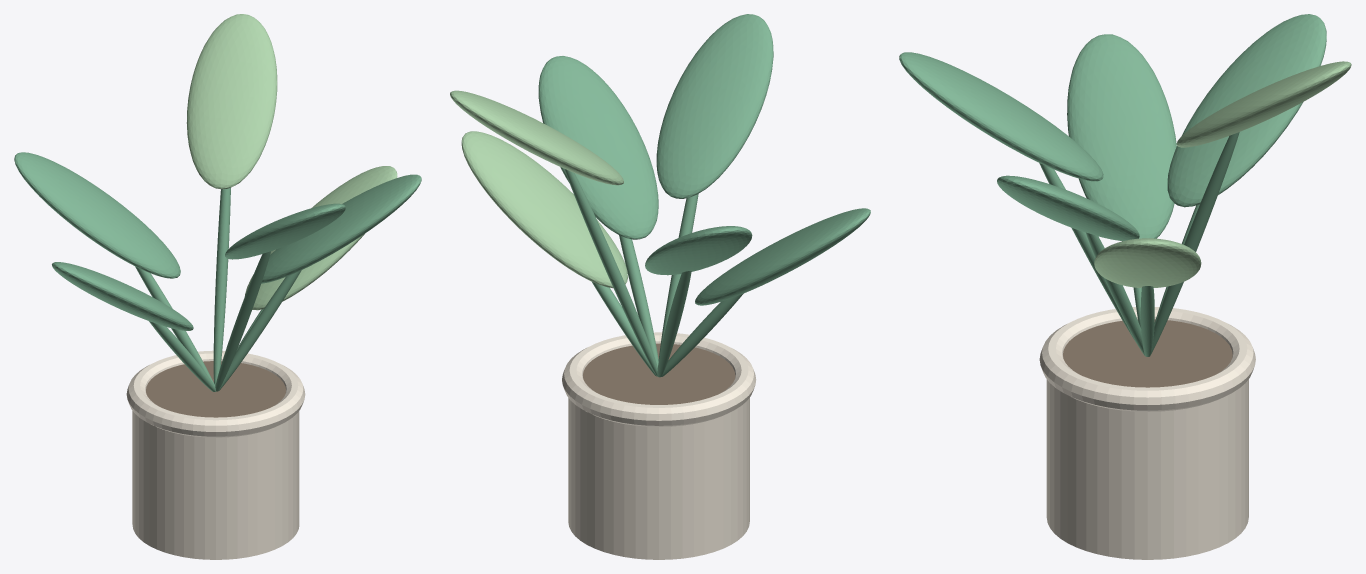
Rendered from desk-plant.glb.
The picture shows the model from 3 angles, left to right: view 1: azimuth 30°, elevation 25°; view 2: azimuth 150°, elevation 25°; view 3: azimuth 270°, elevation 25°; orthographic projection. The views are drawn at different scales.
Visible parts, largest first — view 1: pot, leaf3, leaf1, potrim, soil, leaf5, leaf4, leaf0, leaf2, stem3, stem2, stem5 (+2 smaller); view 2: pot, leaf2, leaf5, leaf0, potrim, soil, leaf4, leaf3, leaf1, stem3, stem5, stem1 (+3 smaller); view 3: pot, leaf4, leaf1, potrim, leaf2, soil, leaf3, leaf0, leaf5, stem3, stem5, stem2 (+1 smaller).
Part boxes in pixels (x1,y1,x2,y2): pot: [132, 411, 299, 559]; leaf3: [186, 14, 277, 189]; leaf1: [14, 152, 180, 278]; potrim: [126, 350, 305, 437]; soil: [146, 361, 285, 417]; leaf5: [261, 174, 421, 283]; leaf4: [52, 262, 193, 330]; leaf0: [245, 166, 397, 310]; leaf2: [225, 203, 345, 259]; stem3: [213, 187, 230, 385]; stem2: [215, 251, 270, 391]; stem5: [218, 270, 301, 390]; pot: [568, 398, 749, 559]; leaf2: [656, 14, 773, 198]; leaf5: [538, 56, 658, 239]; leaf0: [461, 131, 627, 288]; potrim: [562, 332, 756, 426]; soil: [583, 343, 735, 404]; leaf4: [695, 208, 870, 305]; leaf3: [450, 90, 623, 185]; leaf1: [645, 226, 752, 275]; stem3: [564, 169, 657, 375]; stem5: [619, 235, 658, 366]; stem1: [657, 271, 691, 377]; pot: [1046, 379, 1248, 559]; leaf4: [1067, 34, 1176, 241]; leaf1: [1167, 14, 1326, 207]; potrim: [1039, 307, 1255, 411]; leaf2: [899, 52, 1103, 181]; soil: [1063, 319, 1232, 387]; leaf3: [1176, 61, 1351, 147]; leaf0: [1094, 238, 1201, 287]; leaf5: [997, 175, 1139, 240]; stem3: [1151, 132, 1239, 353]; stem5: [1086, 232, 1144, 355]; stem2: [1039, 163, 1136, 343].
Bounding box in the file's own units: 0.5765 × 0.6608 × 0.5262.
